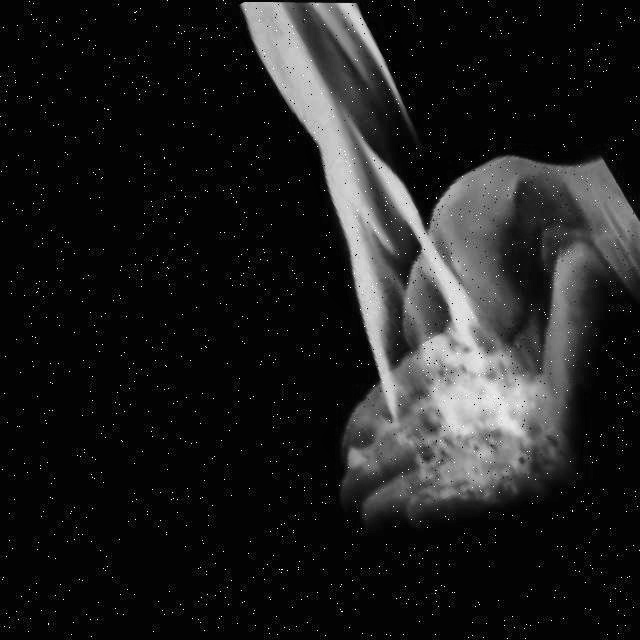Smoke: (159, 1, 594, 458)
